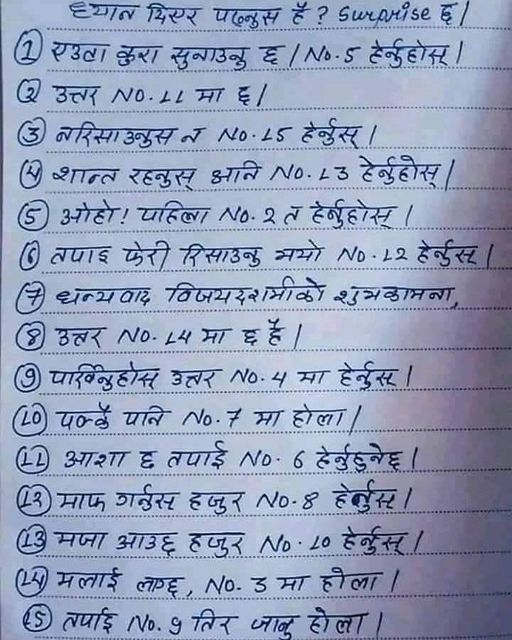text: (166, 274, 325, 307), (48, 363, 162, 392), (55, 121, 178, 147), (357, 152, 443, 189), (314, 439, 407, 472), (331, 283, 455, 307), (310, 197, 398, 230), (368, 37, 451, 68), (169, 44, 250, 72), (55, 286, 155, 308), (336, 2, 433, 24), (178, 242, 263, 267), (134, 198, 212, 225), (165, 439, 230, 471), (333, 480, 398, 512), (416, 237, 479, 270), (341, 524, 408, 555), (113, 483, 183, 512), (336, 359, 401, 390), (299, 117, 362, 148), (319, 566, 383, 596), (56, 565, 124, 593), (308, 607, 371, 636), (55, 402, 115, 432), (61, 606, 120, 636), (127, 168, 198, 192), (66, 2, 140, 25), (210, 6, 284, 29), (48, 40, 111, 66), (186, 490, 248, 516), (186, 531, 248, 557), (51, 165, 122, 187), (145, 2, 205, 28), (115, 531, 180, 555), (59, 201, 120, 226), (123, 240, 172, 271), (62, 447, 130, 469), (290, 403, 347, 429), (190, 608, 240, 637), (46, 246, 114, 267), (249, 614, 303, 640), (51, 326, 111, 349), (272, 238, 325, 264), (49, 82, 101, 108), (209, 162, 264, 185), (135, 575, 187, 599), (53, 490, 108, 512), (167, 368, 224, 389), (53, 530, 110, 551), (122, 405, 171, 429), (114, 43, 162, 67), (115, 324, 152, 347), (275, 572, 312, 593), (110, 85, 146, 106), (257, 534, 293, 554), (237, 449, 273, 468), (228, 366, 259, 388), (270, 163, 304, 183), (193, 85, 225, 106), (199, 325, 231, 346), (204, 576, 236, 597), (255, 491, 290, 510), (296, 368, 330, 387), (218, 205, 250, 225), (257, 43, 286, 65), (265, 317, 286, 347), (126, 612, 156, 633), (251, 408, 284, 427), (181, 408, 213, 427), (163, 327, 193, 347), (261, 126, 292, 145), (217, 127, 249, 145), (317, 165, 349, 183), (179, 125, 207, 145), (19, 407, 44, 429), (437, 1, 458, 27), (303, 45, 333, 63), (380, 246, 410, 264), (290, 2, 312, 26), (17, 38, 39, 62), (336, 246, 367, 263), (21, 287, 45, 308), (249, 574, 271, 596), (281, 205, 304, 226), (16, 369, 39, 390), (157, 89, 187, 105), (21, 205, 43, 226), (137, 449, 157, 472), (308, 534, 333, 552), (240, 327, 261, 347), (303, 490, 322, 512), (21, 327, 43, 346), (22, 124, 42, 144), (234, 85, 253, 106), (224, 407, 242, 428), (290, 449, 308, 470), (342, 46, 361, 65), (270, 370, 290, 388), (261, 205, 277, 225), (167, 616, 183, 636), (24, 86, 40, 106), (24, 246, 38, 268), (24, 164, 42, 181)
